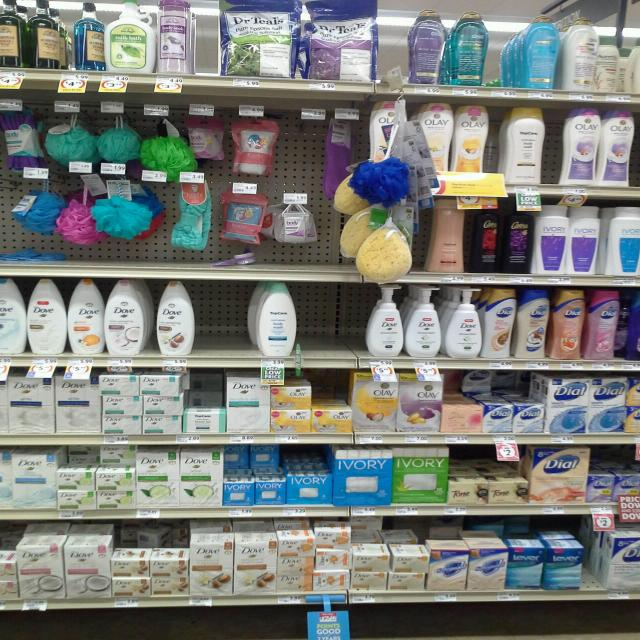empty: (299, 286, 365, 358), (197, 281, 245, 354)
